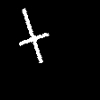single_crochet: (19, 9, 48, 62)
